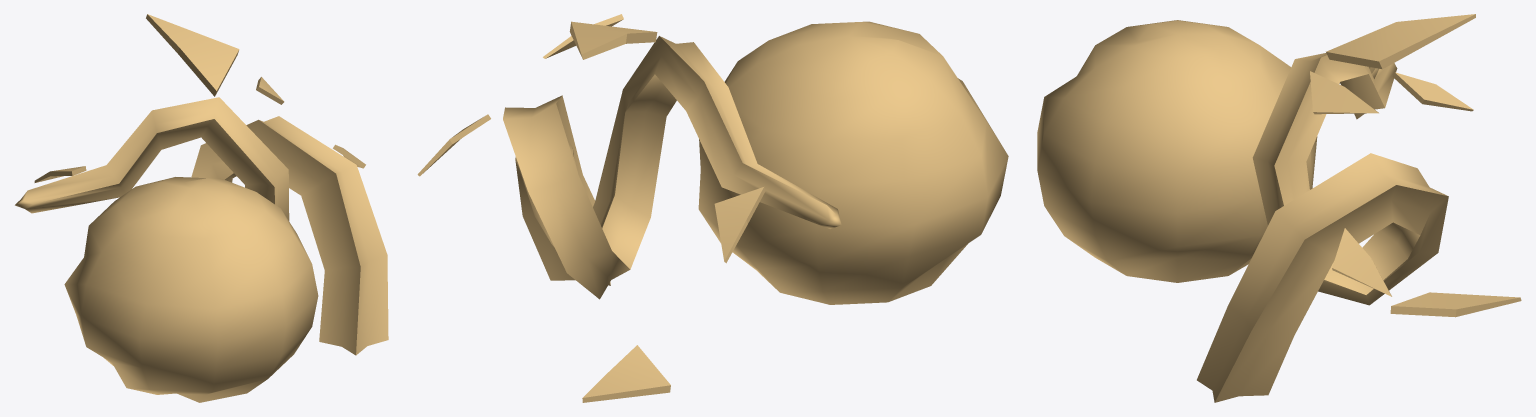
The model's file is starPlant_stage4.fbx.
3 views of the same model, side by side, from view 1: azimuth 30°, elevation 25°; view 2: azimuth 150°, elevation 25°; view 3: azimuth 270°, elevation 25° (orthographic). The views are drawn at different scales.
Parts seen in each view (by area): view 1: starPlant_stem_rotten1, starPlant_stem_rotten3; view 2: starPlant_stem_rotten1, starPlant_stem_rotten2, starPlant_stem_rotten3; view 3: starPlant_stem_rotten1, starPlant_stem_rotten2, starPlant_stem_rotten3.
Boxes of the visible parts, box(x1,y1,x2,y2) form: starPlant_stem_rotten1: box(15, 77, 388, 402); starPlant_stem_rotten3: box(146, 14, 239, 96); starPlant_stem_rotten1: box(503, 14, 1008, 304); starPlant_stem_rotten2: box(417, 114, 670, 402); starPlant_stem_rotten3: box(569, 21, 657, 59); starPlant_stem_rotten1: box(1037, 20, 1473, 402); starPlant_stem_rotten2: box(1332, 228, 1521, 317); starPlant_stem_rotten3: box(1326, 14, 1475, 69).
Size of the model in its own units: 77.71 by 56.12 by 77.73.
